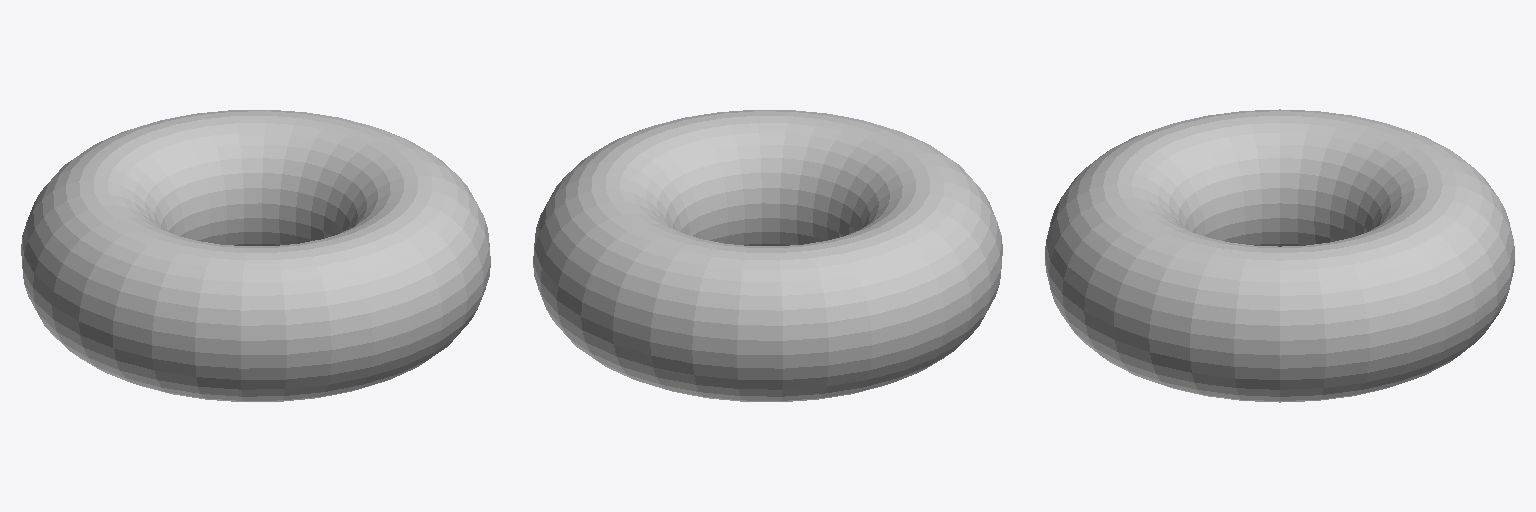
File: torus32_smoothed_50.obj
3 renders of one model, left to right at view 1: azimuth 30°, elevation 25°; view 2: azimuth 150°, elevation 25°; view 3: azimuth 270°, elevation 25°, orthographic.
Bounding box in the file's own units: 10.42 × 3.49 × 10.42.